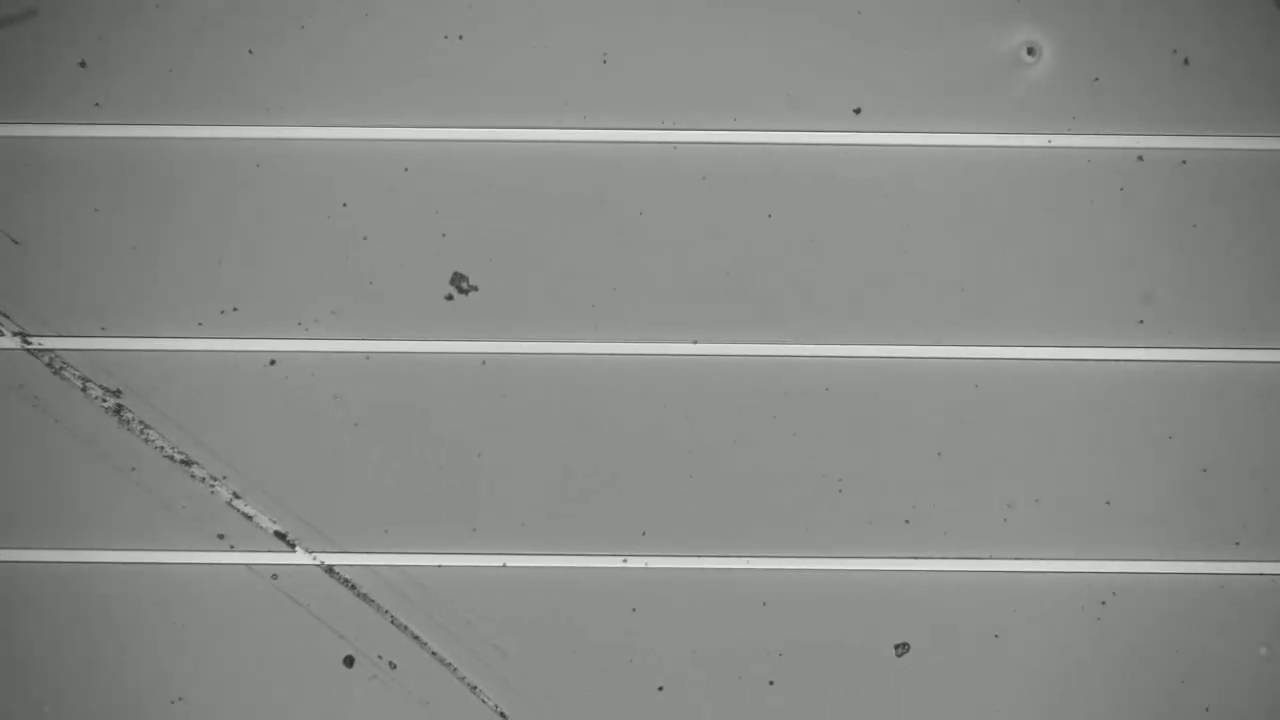scratch: (8, 322, 515, 716)
